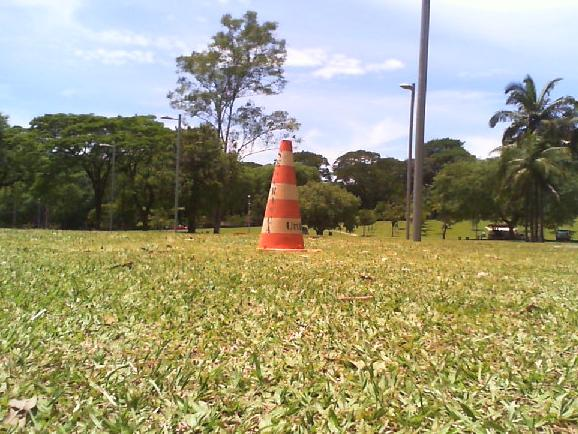0 cone: (256, 139, 307, 252)
